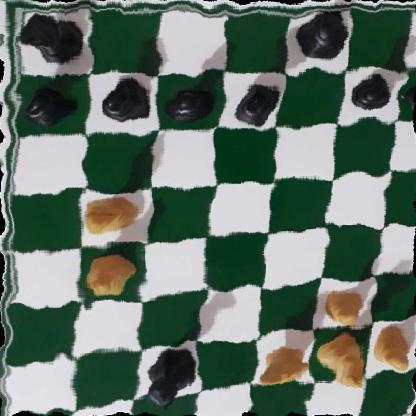black-bishop: (227, 81, 285, 126)
black-king: (293, 5, 352, 64)
black-pawn: (163, 79, 219, 124), (99, 76, 151, 124), (20, 82, 72, 125), (347, 75, 396, 113), (406, 70, 416, 109)
black-queen: (141, 343, 200, 408)
black-rook: (14, 6, 91, 68)
white-bishop: (80, 186, 140, 238), (82, 254, 134, 306)
white-king: (313, 328, 373, 396)
white-knight: (254, 337, 320, 392)
white-pawn: (370, 321, 416, 374), (318, 285, 369, 330)
